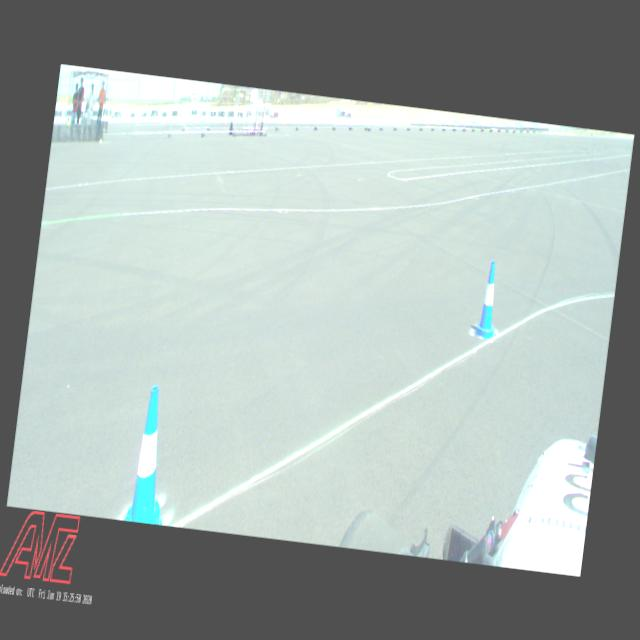blue_cone: (124, 383, 179, 524), (472, 258, 504, 342)
